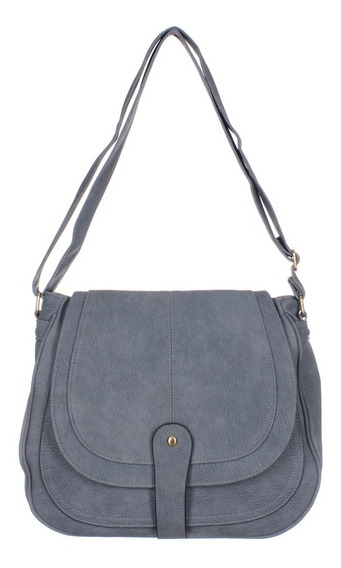cartera: (18, 26, 325, 540)
